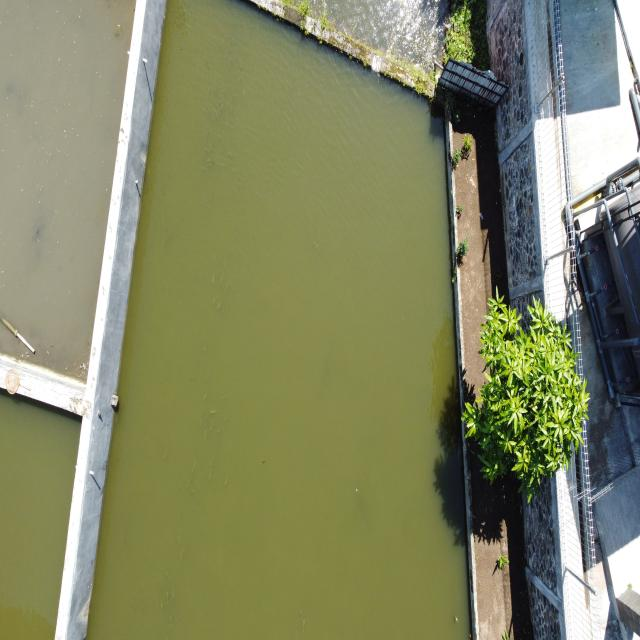Ponds: (66, 3, 484, 640), (1, 1, 149, 417), (1, 358, 96, 640)
